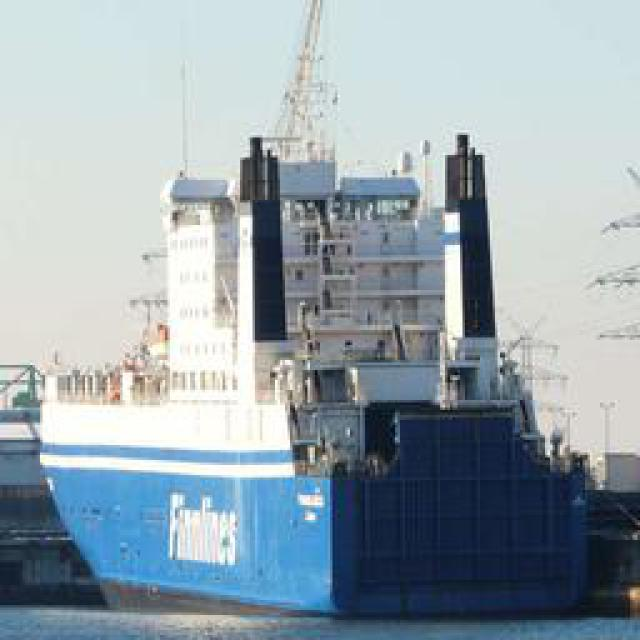Ship: (35, 100, 623, 630)
